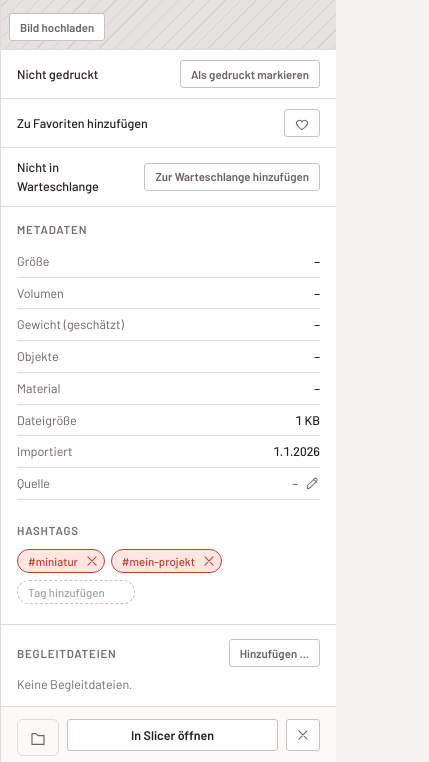
Test case: tag chips in the compact detail panel › removes and blocks, confirms in a status message and takes the block back with Undo
(page scrolled)
Click the button named "miniatur entfernen, Menü" at (92, 561), box [84,553,100,569]
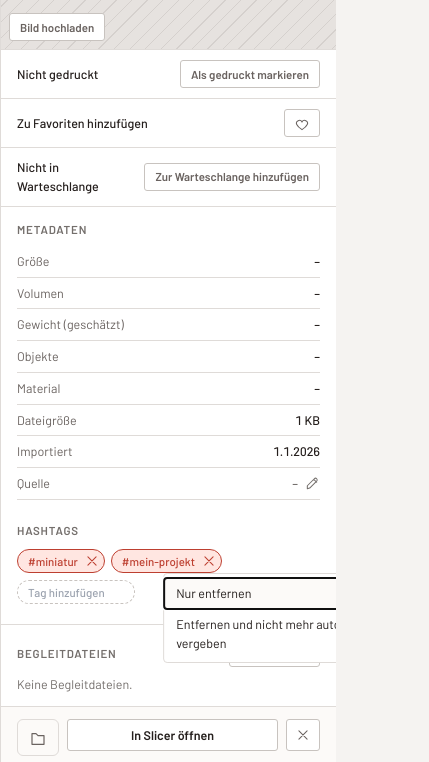
Click the menu item "Entfernen und nicht mehr automatisch vergeben" at (288, 634), box [164,609,412,658]
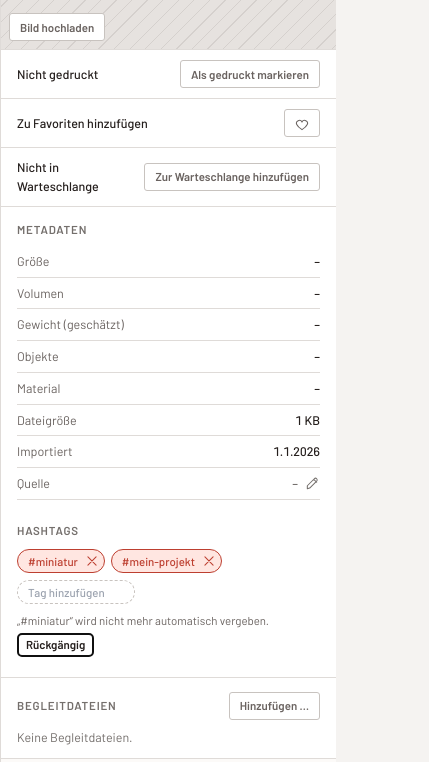
Expected: the message shows "„#miniatur“ wird nicht mehr automatisch vergeben.", [17,613,269,627]
Click the button "Rückgängig" at (56, 645), box [17,633,94,657]
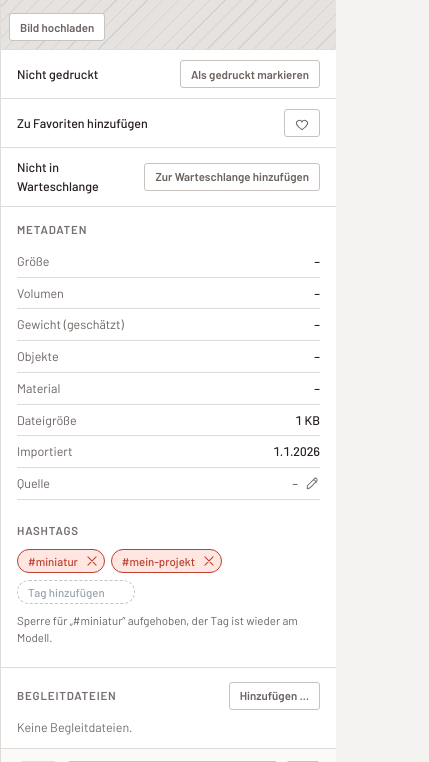
Expected: the message shows "Sperre für „#miniatur“ aufgehoben", [17,613,298,644]
Expected: the button "Rückgängig" is gone
